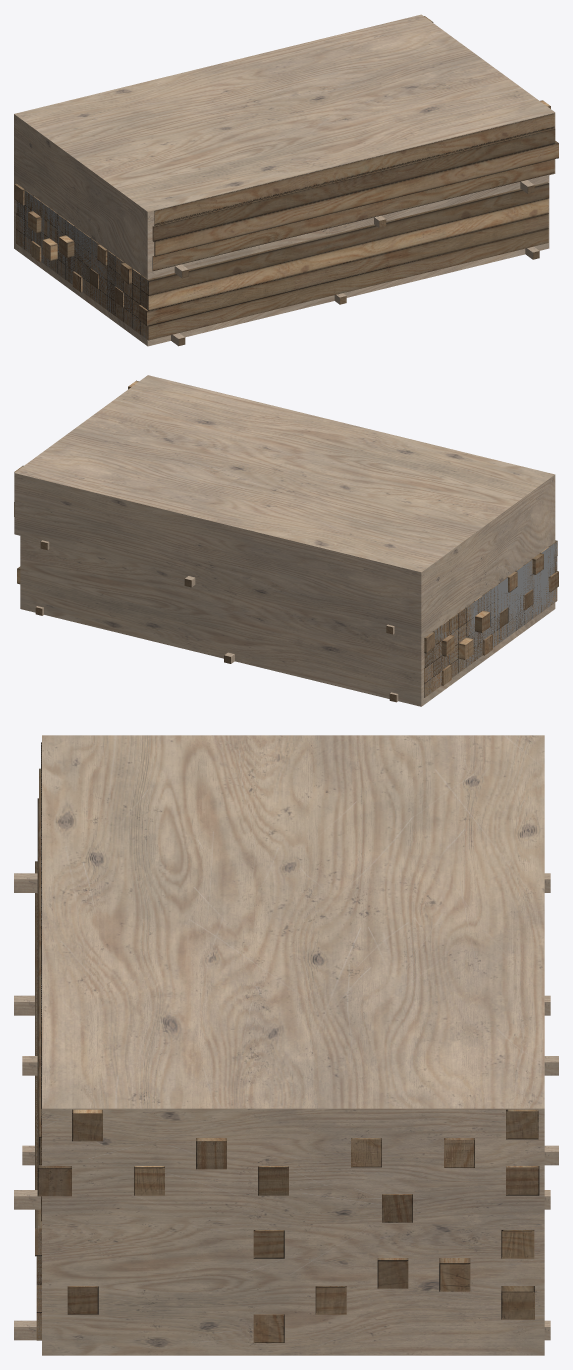
Rendered from wood_stack_a.DAE.
3 renders of one model, top to bottom at view 1: azimuth 30°, elevation 25°; view 2: azimuth 150°, elevation 25°; view 3: azimuth 270°, elevation 25°, orthographic. The views are drawn at different scales.
Visible parts, largest first — view 1: Colmesh-1, ind_wood_stack_a350, ind_wood_stack_a180, ind_wood_stack_a60; view 2: Colmesh-1, ind_wood_stack_a350, ind_wood_stack_a60, ind_wood_stack_a180; view 3: Colmesh-1, ind_wood_stack_a350, ind_wood_stack_a180.
Part boxes in pixels (x1,y1,x2,y2): Colmesh-1: (14,14,555,346); ind_wood_stack_a350: (14,16,558,346); ind_wood_stack_a180: (16,113,554,339); ind_wood_stack_a60: (16,123,514,338); Colmesh-1: (14,375,555,706); ind_wood_stack_a350: (14,380,558,702); ind_wood_stack_a60: (425,542,557,696); ind_wood_stack_a180: (424,540,557,694); Colmesh-1: (42,735,544,1355); ind_wood_stack_a350: (14,742,558,1342); ind_wood_stack_a180: (36,742,41,1340).
Size of the model in its own units: 367 by 220 by 112.
